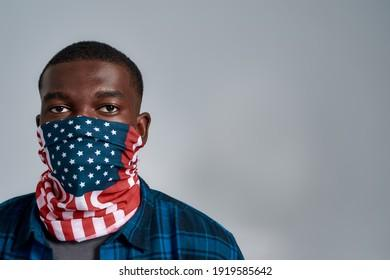scarf-kerchief: (28, 113, 149, 243)
